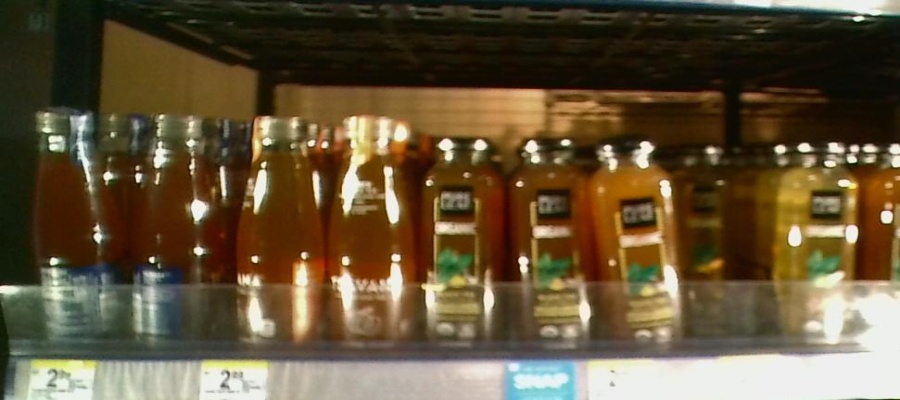bottle: (29, 102, 122, 350), (327, 109, 416, 357), (235, 113, 323, 357), (417, 116, 504, 354), (505, 127, 594, 351), (128, 112, 210, 349), (773, 138, 861, 354), (596, 133, 680, 351), (682, 143, 740, 330)
